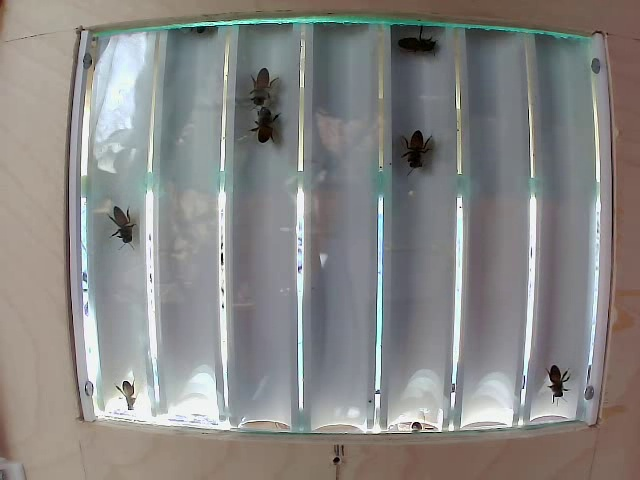bee: (257, 103, 293, 165), (106, 196, 143, 250), (402, 114, 438, 168), (250, 70, 280, 114), (411, 25, 437, 60)
